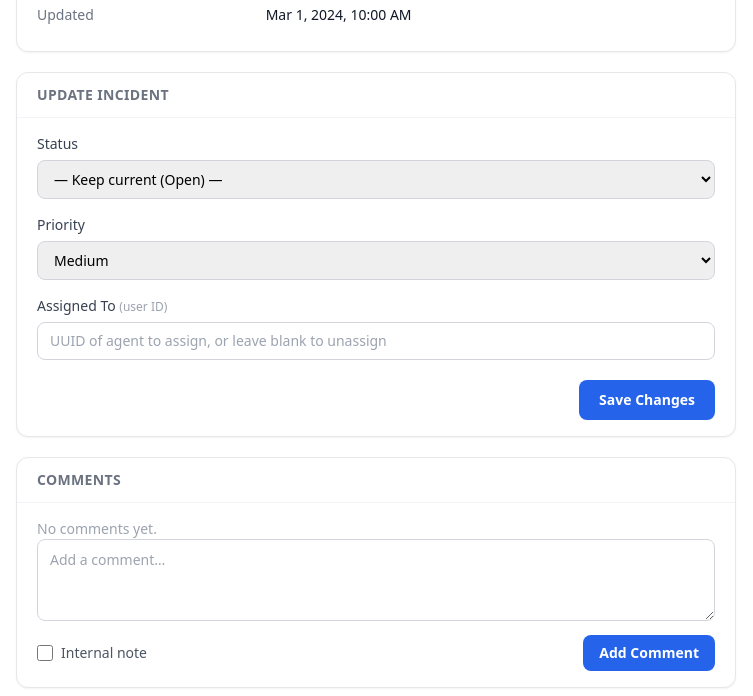
Test: IncidentDetailPage › shows an error banner when saving with no changes
This screenshot has width=753, height=696.
(page scrolled)
What coordinates should you click on to do the following:
click the button "Save Changes"
I would click on:
 (647, 400)
Its box is [579,380,715,420].
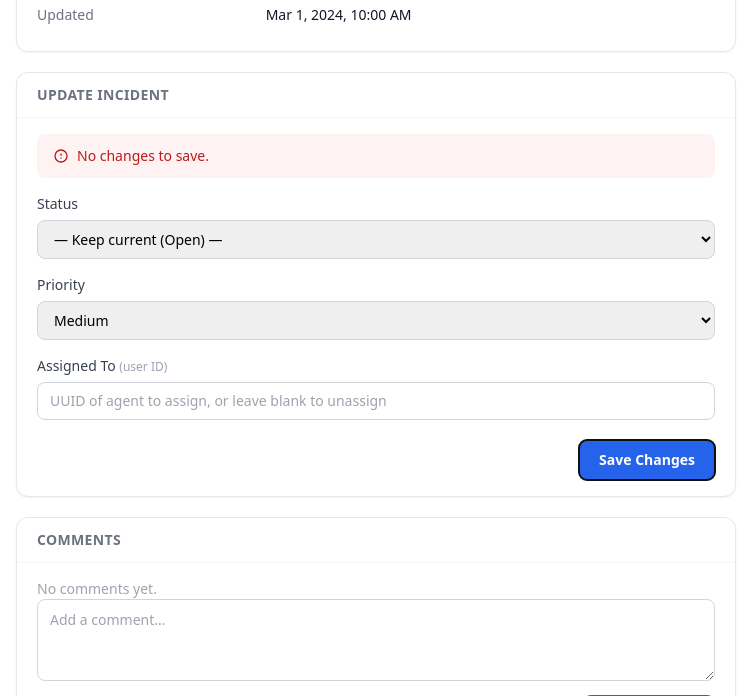
Expected: the message "No changes to save." is shown, [37,134,715,178]
Expected: the message shows "No changes", [77,146,209,165]
